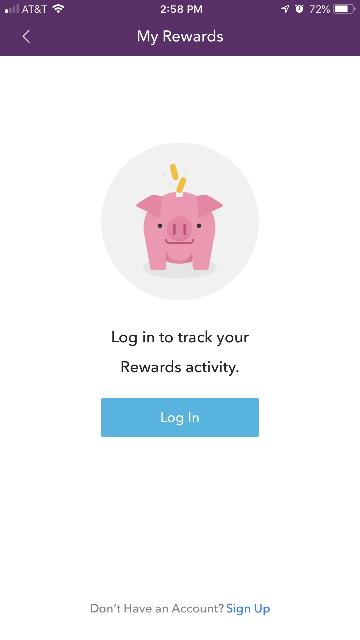Icon: (22, 30, 29, 42)
Image: (102, 142, 258, 300)
Text: (112, 330, 248, 376), (90, 603, 270, 615), (138, 29, 222, 45), (162, 412, 198, 426)
TextButton: (102, 398, 258, 437)
UpperTaskBar: (0, 0, 360, 14)
